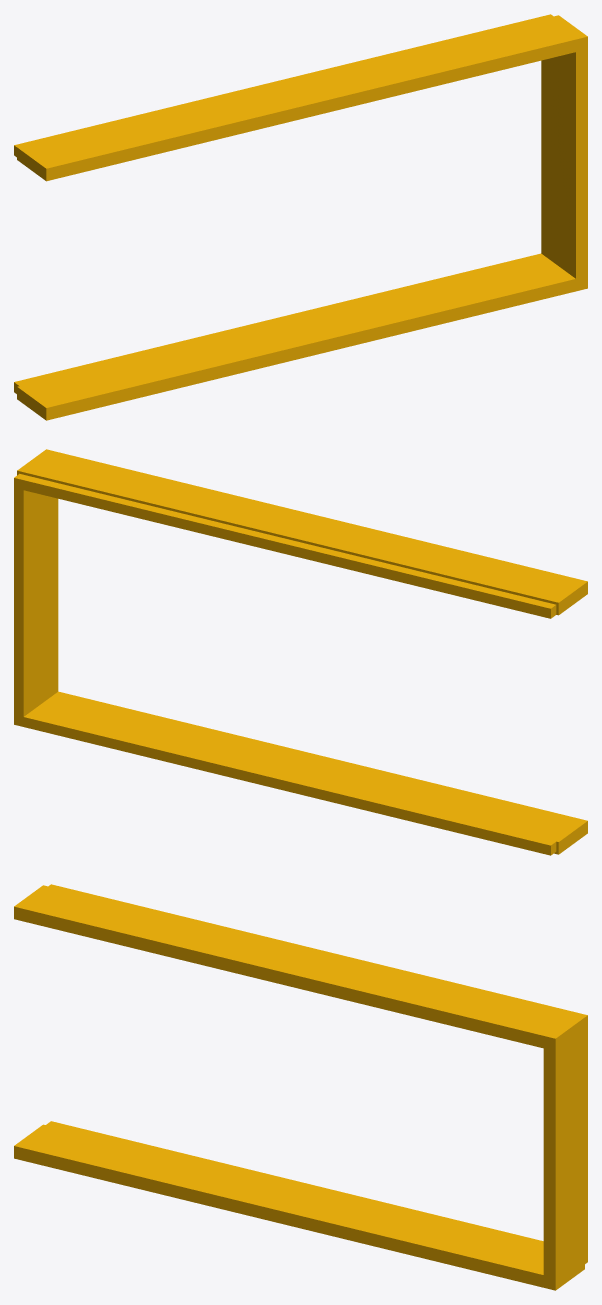
The model's file is curtain_wall_door_4x1x9_static.dae.
The picture shows the model from 3 angles, top to bottom: view 1: azimuth 30°, elevation 25°; view 2: azimuth 150°, elevation 25°; view 3: azimuth 330°, elevation 25°; orthographic projection.
Parts seen in each view (by area): view 1: Cube; view 2: Cube; view 3: Cube.
Boxes of the visible parts, box(x1,y1,x2,y2) form: Cube: box(14, 14, 587, 420); Cube: box(14, 449, 587, 855); Cube: box(14, 884, 587, 1290).
Bounding box in the file's own units: 2.25 × 0.25 × 1.
